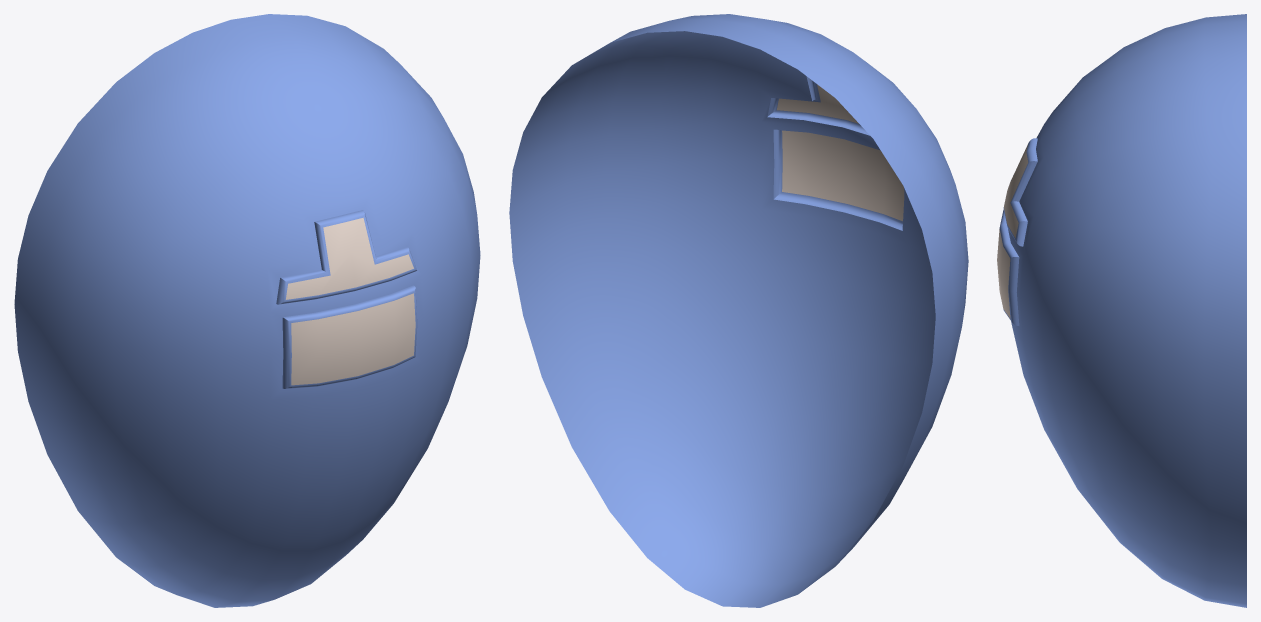
The model's file is MaskCheif.fbx.
The picture shows the model from 3 angles, left to right: view 1: azimuth 30°, elevation 25°; view 2: azimuth 150°, elevation 25°; view 3: azimuth 270°, elevation 25°; orthographic projection. The views are drawn at different scales.
Visible parts, largest first — view 1: MaskChief; view 2: MaskChief; view 3: MaskChief.
Boxes of the visible parts, x1,y1,x2,y2 form: MaskChief: (14, 14, 480, 607); MaskChief: (509, 14, 968, 607); MaskChief: (997, 14, 1246, 607).
Bounding box in the file's own units: 65.62 × 83.77 × 33.8.
